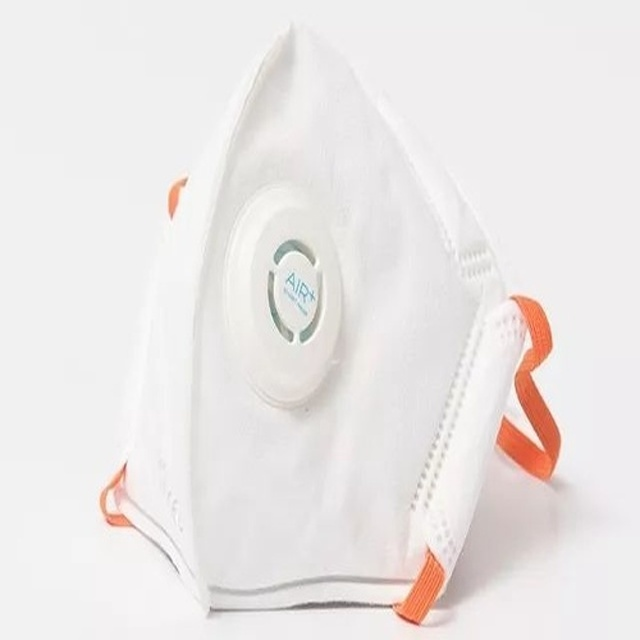mask: (100, 21, 566, 628)
